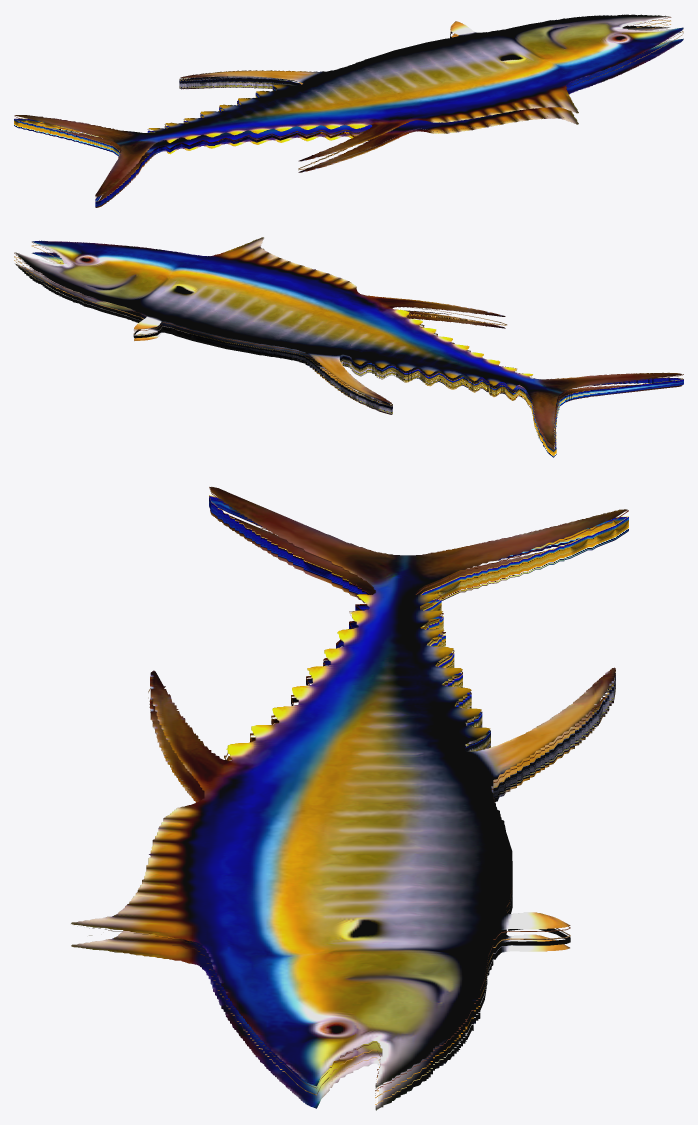
File: tuna.obj
The picture shows the model from 3 angles, top to bottom: view 1: azimuth 30°, elevation 25°; view 2: azimuth 150°, elevation 25°; view 3: azimuth 270°, elevation 25°; orthographic projection. The views are drawn at different scales.
Visible parts, largest first — view 1: Spline_Object; view 2: Spline_Object; view 3: Spline_Object.
Part boxes in pixels (x1,y1,x2,y2): Spline_Object: [14, 14, 683, 207]; Spline_Object: [14, 237, 683, 457]; Spline_Object: [71, 486, 628, 1110].
Size of the model in its own units: 276 by 4.78 by 108.
Materials: 3 (3 with a texture image).
